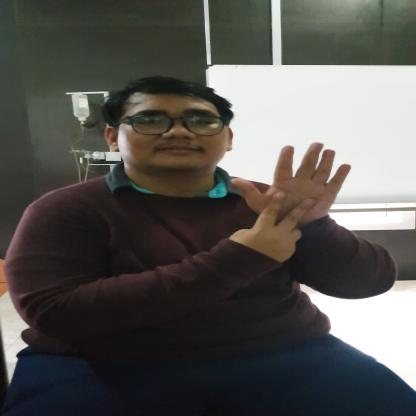N: (226, 142, 356, 256)
